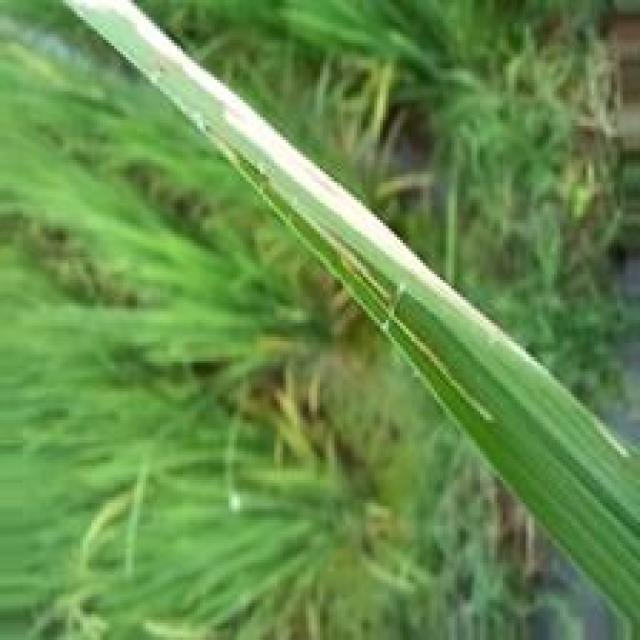Rice_Hispa: (74, 0, 554, 369)
